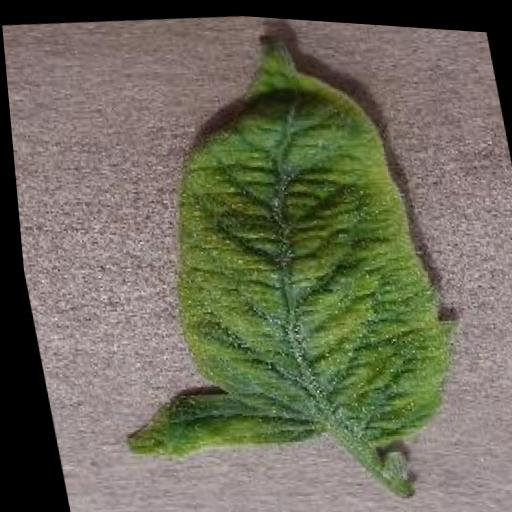Yellow Leaf Curl Virus: (46, 14, 481, 477)
